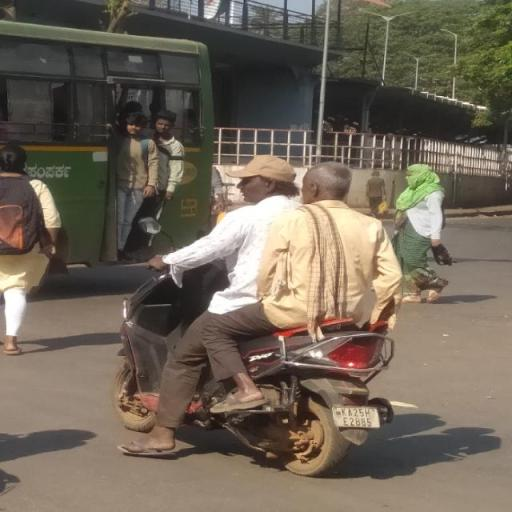bike: (115, 150, 415, 480)
numberplate: (336, 406, 384, 428)
withouthelmet: (239, 159, 295, 199), (306, 163, 349, 202)
